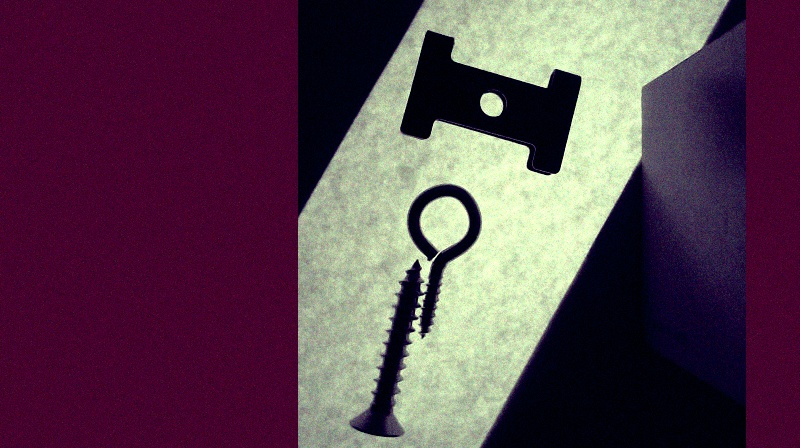O001: (406, 180, 481, 338)
O002: (398, 27, 585, 174)
S001: (349, 257, 422, 439)
